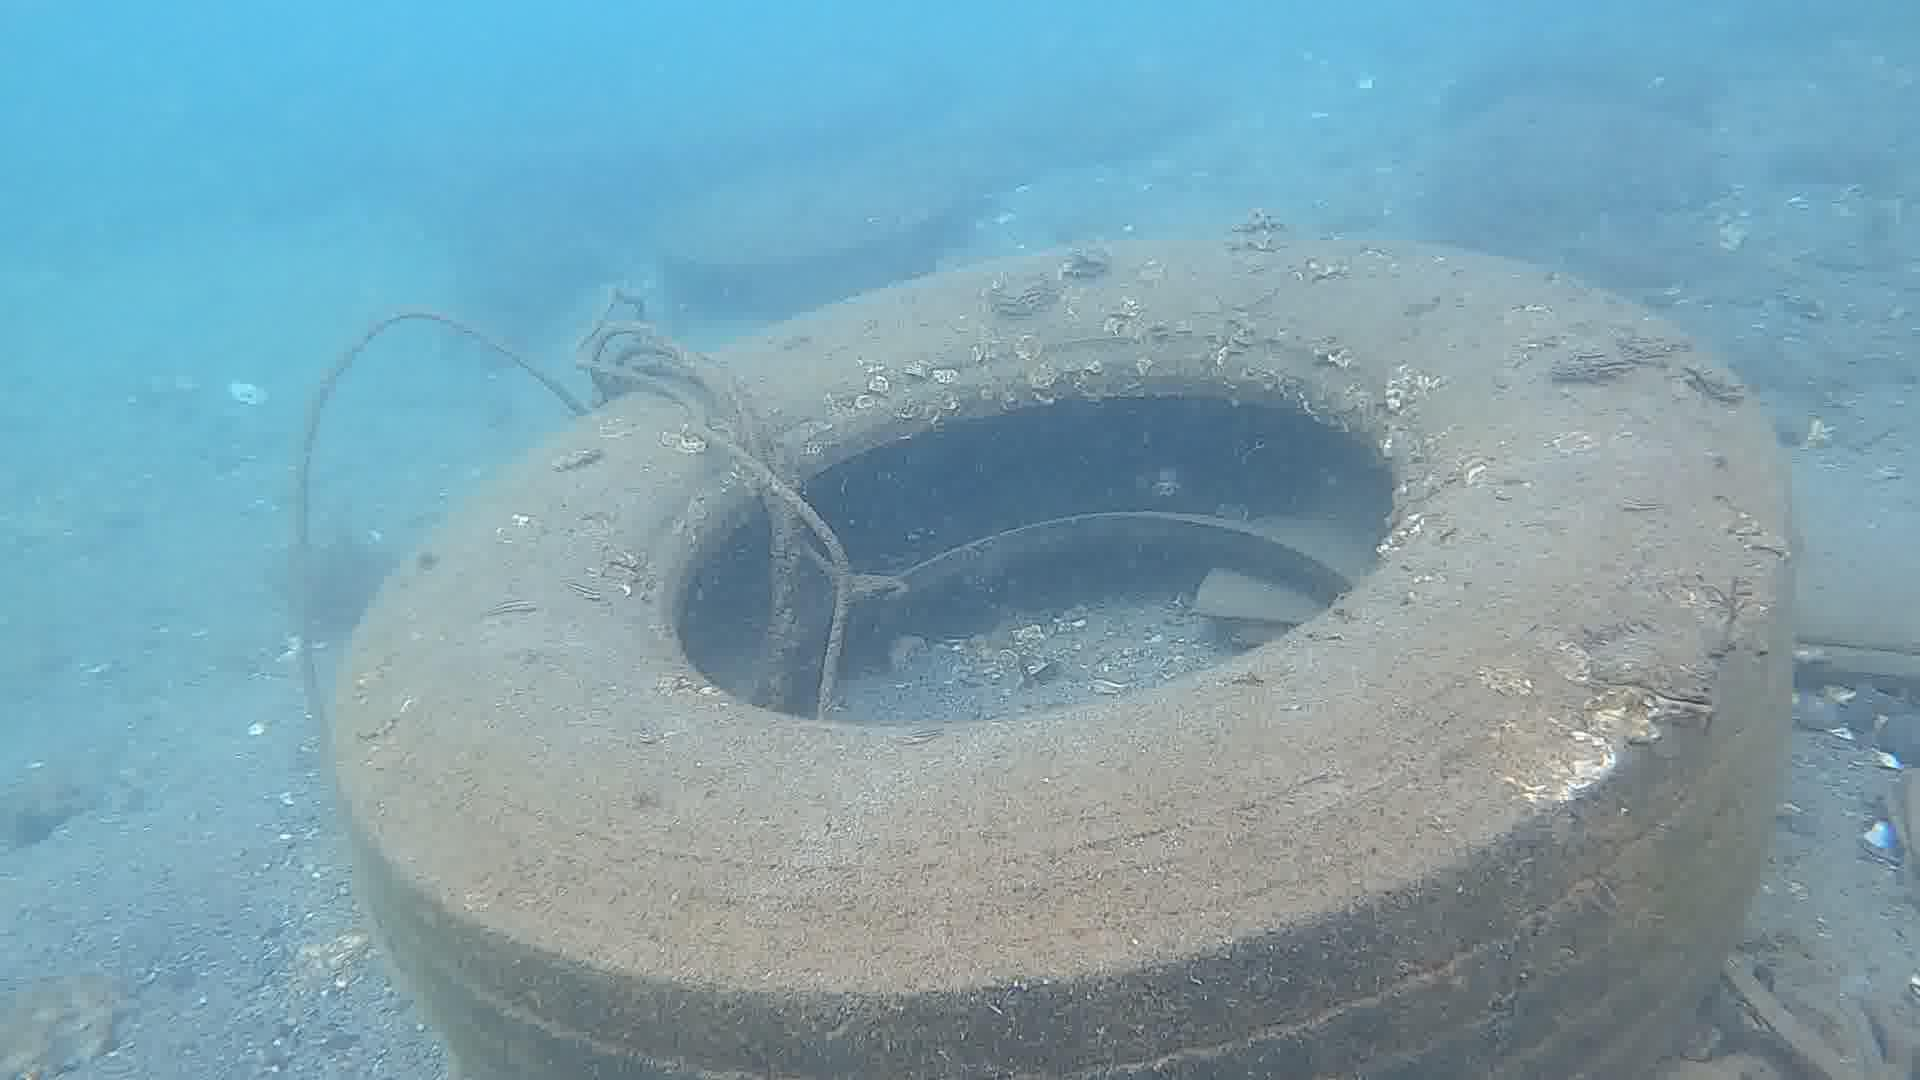bundle of ropes: (568, 284, 911, 721)
rope: (291, 309, 589, 735)
tire: (324, 229, 1795, 1080)
